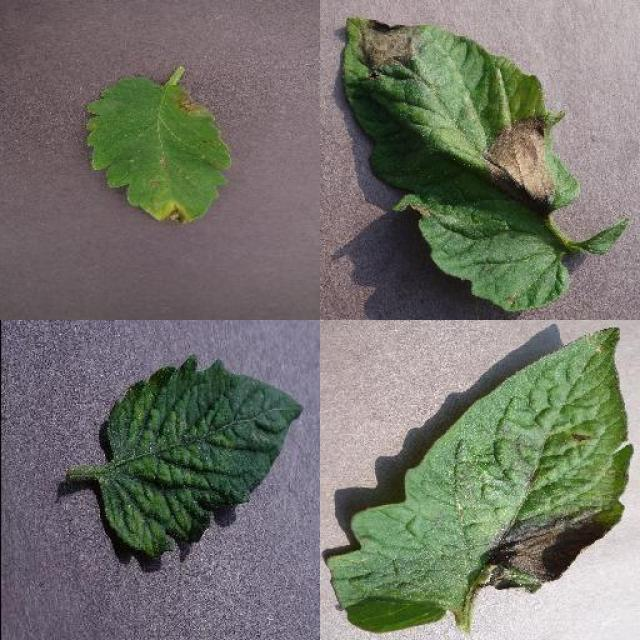Late Blight: (324, 324, 634, 634), (340, 15, 580, 313), (84, 75, 231, 227)
